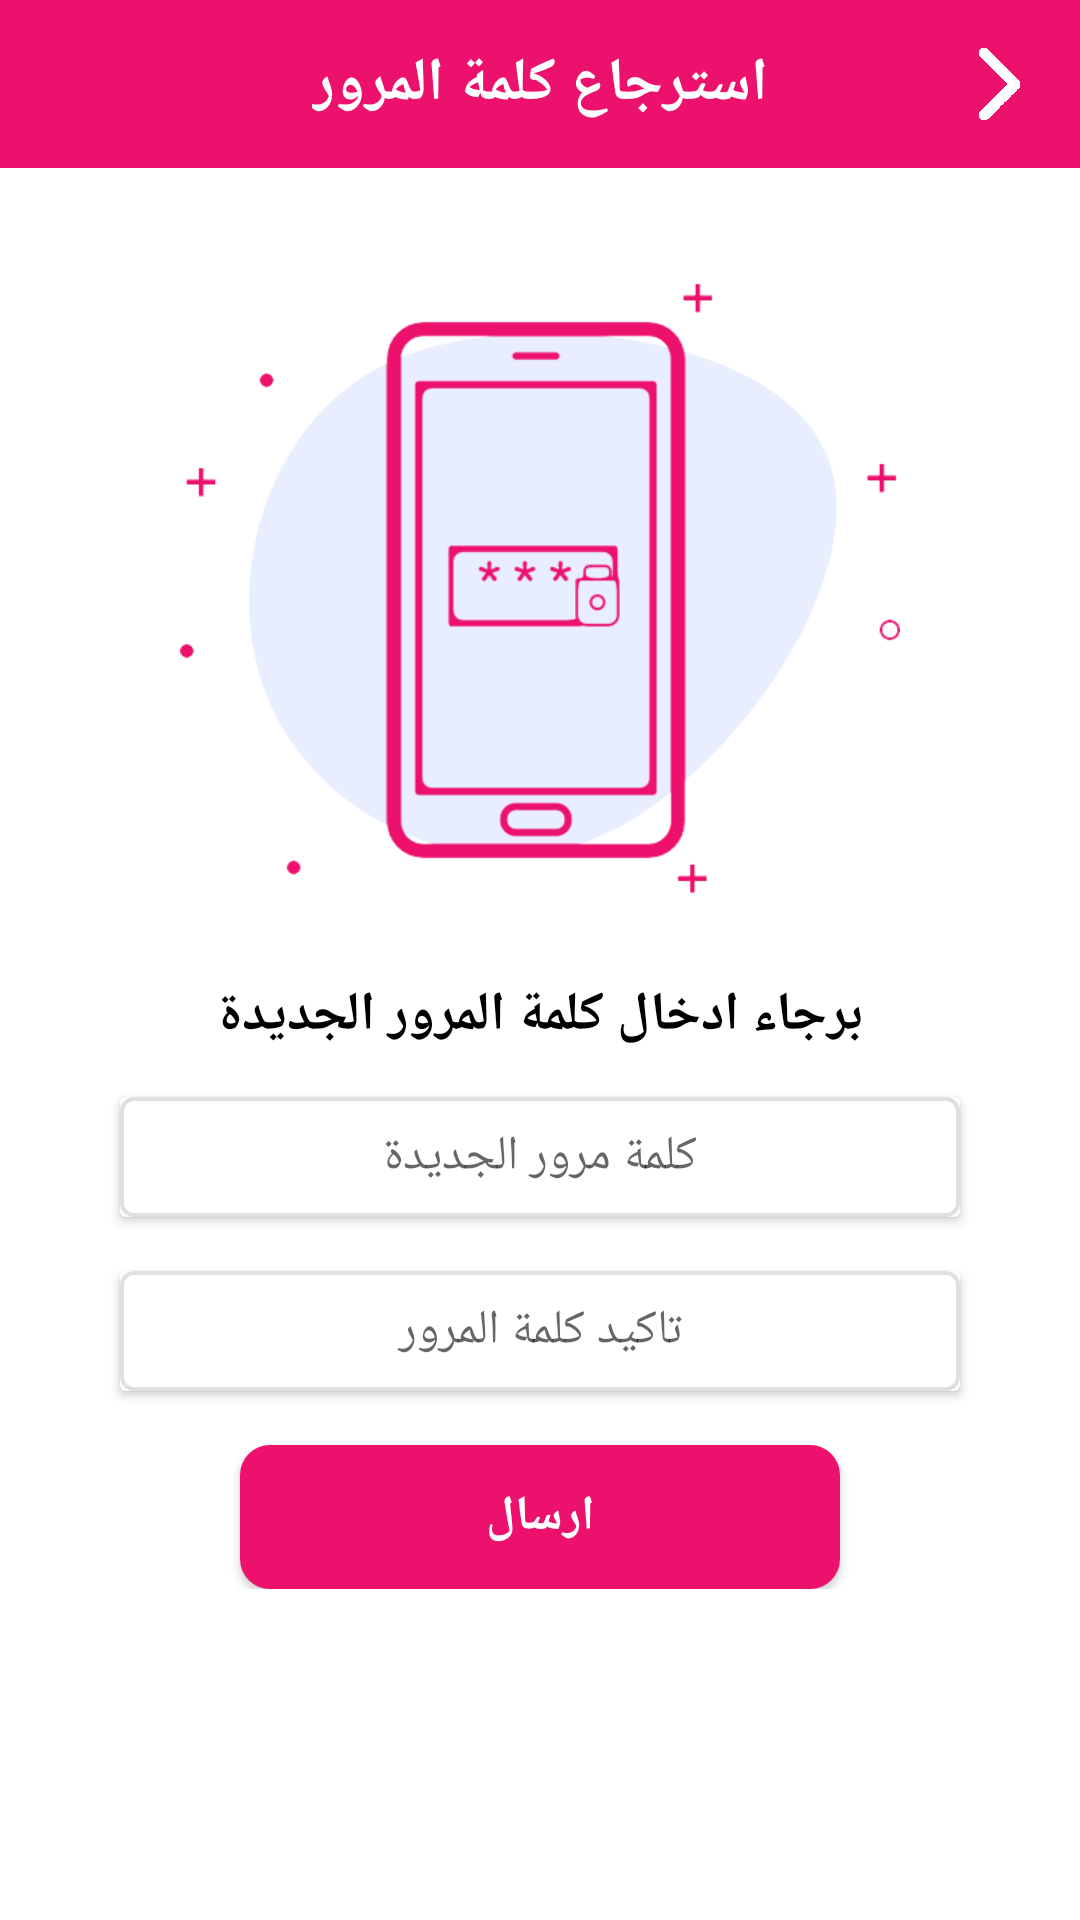

Named icons in this screenshot (1080×1920) and their centers, point (x, y):
arwo: point (999, 84)
